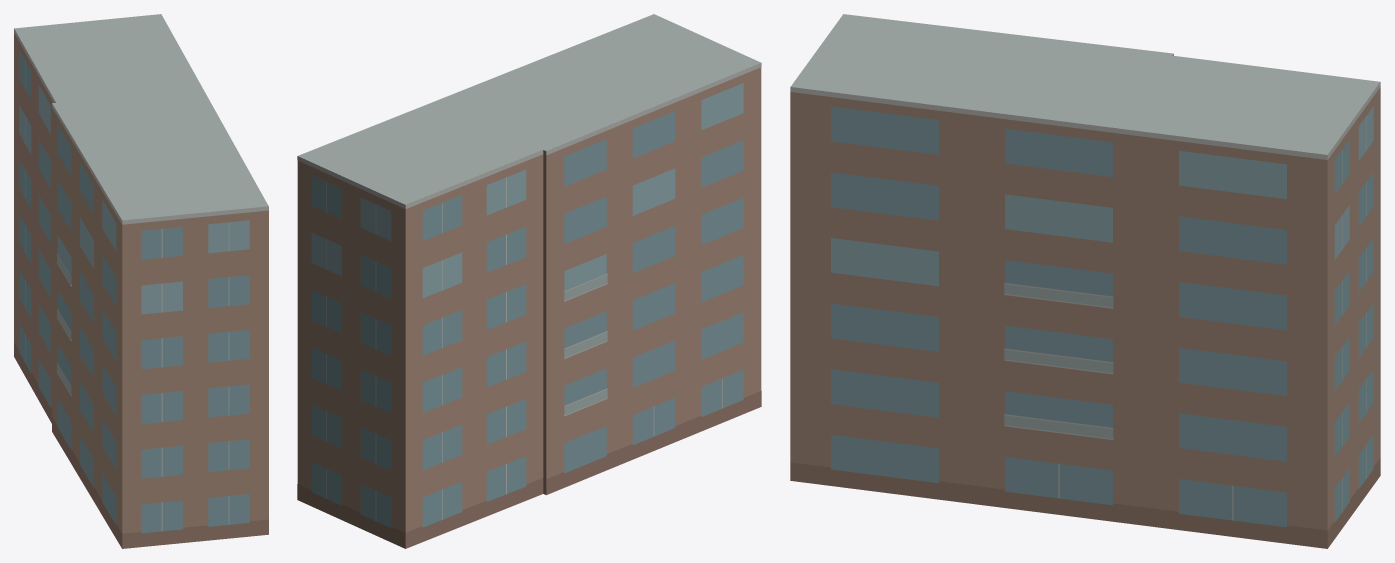
Rendered from survey-upis-32971776.glb.
3 renders of one model, left to right at view 1: azimuth 30°, elevation 25°; view 2: azimuth 150°, elevation 25°; view 3: azimuth 270°, elevation 25°, orthographic. The views are drawn at different scales.
Parts seen in each view (by area): view 1: survey-upis-32971776.tmp; view 2: survey-upis-32971776.tmp; view 3: survey-upis-32971776.tmp.
Boxes of the visible parts, box(x1,y1,x2,y2) form: survey-upis-32971776.tmp: box(14, 14, 268, 548); survey-upis-32971776.tmp: box(297, 14, 761, 548); survey-upis-32971776.tmp: box(790, 14, 1380, 548).
Bounding box in the file's own units: 14.75 × 19.2 × 26.08.
